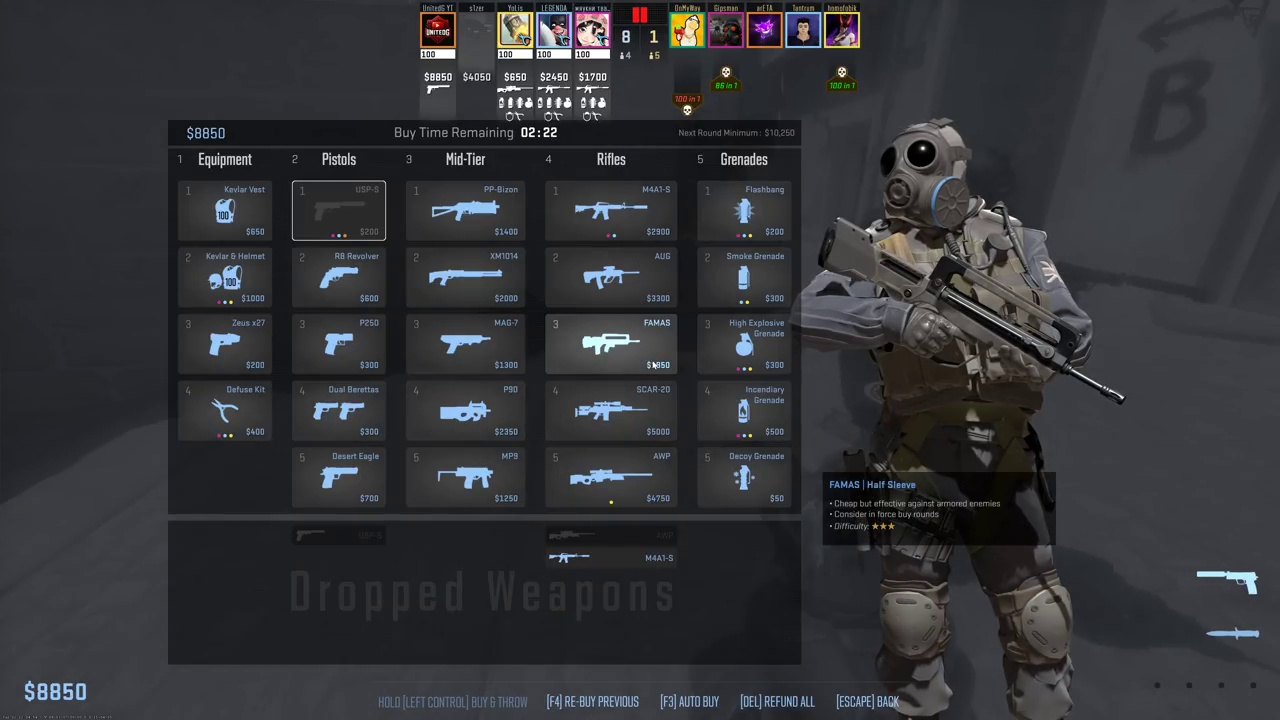CT: (855, 127, 1077, 716)
